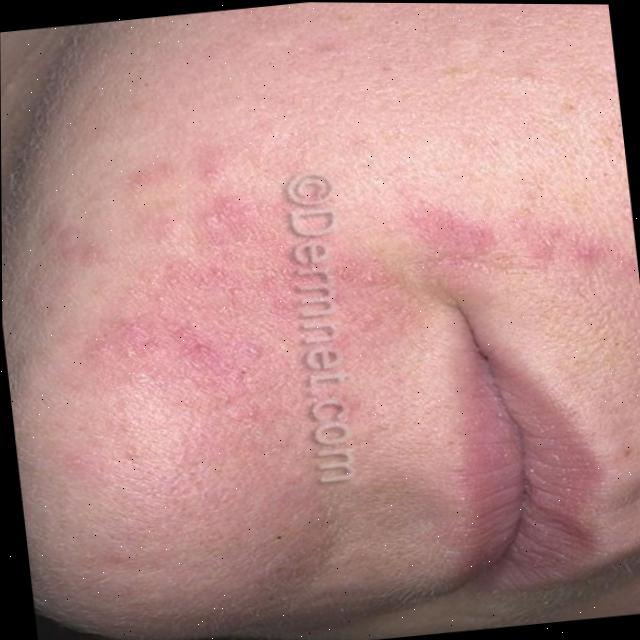Rosacea: (73, 148, 375, 502), (401, 188, 615, 284)
